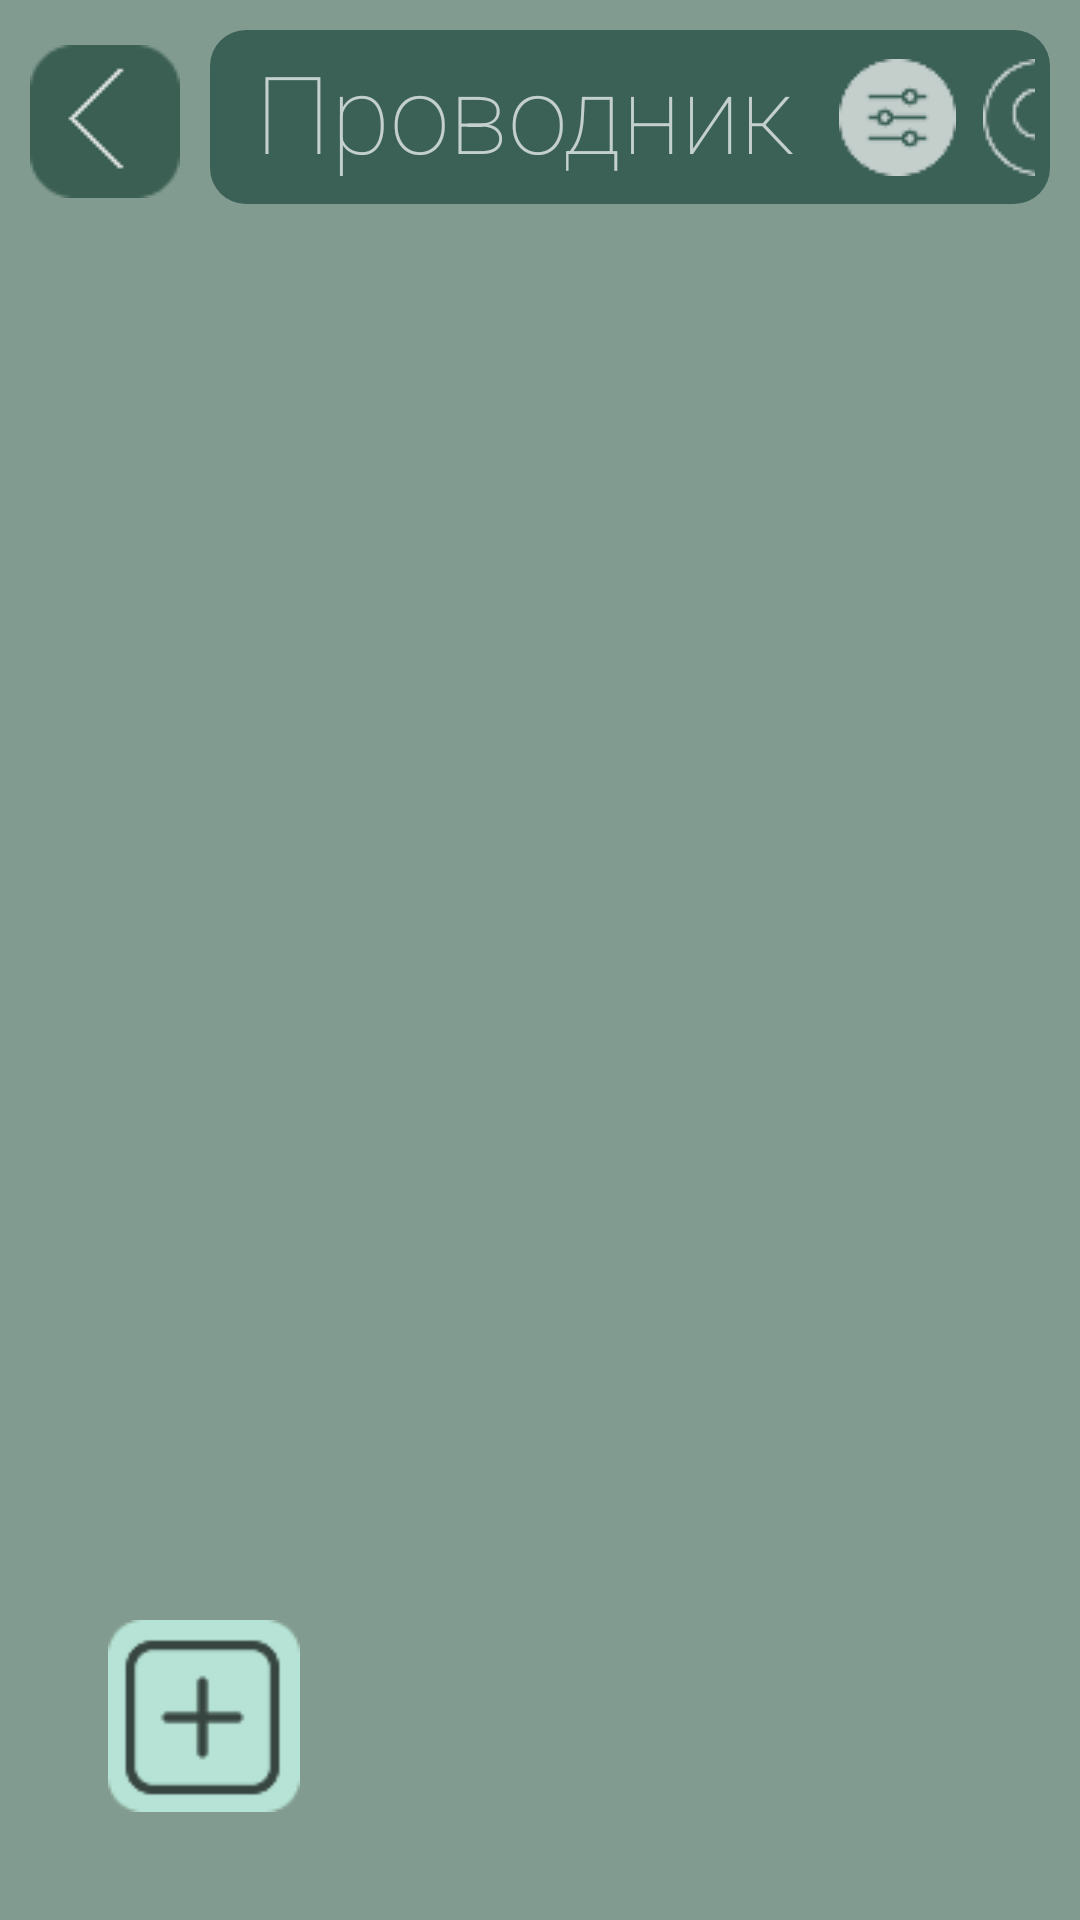

Where to tap for icons on this 1080 × 1920 app screen, as (x,y):
settings: (897,117)
назад: (105,121)
